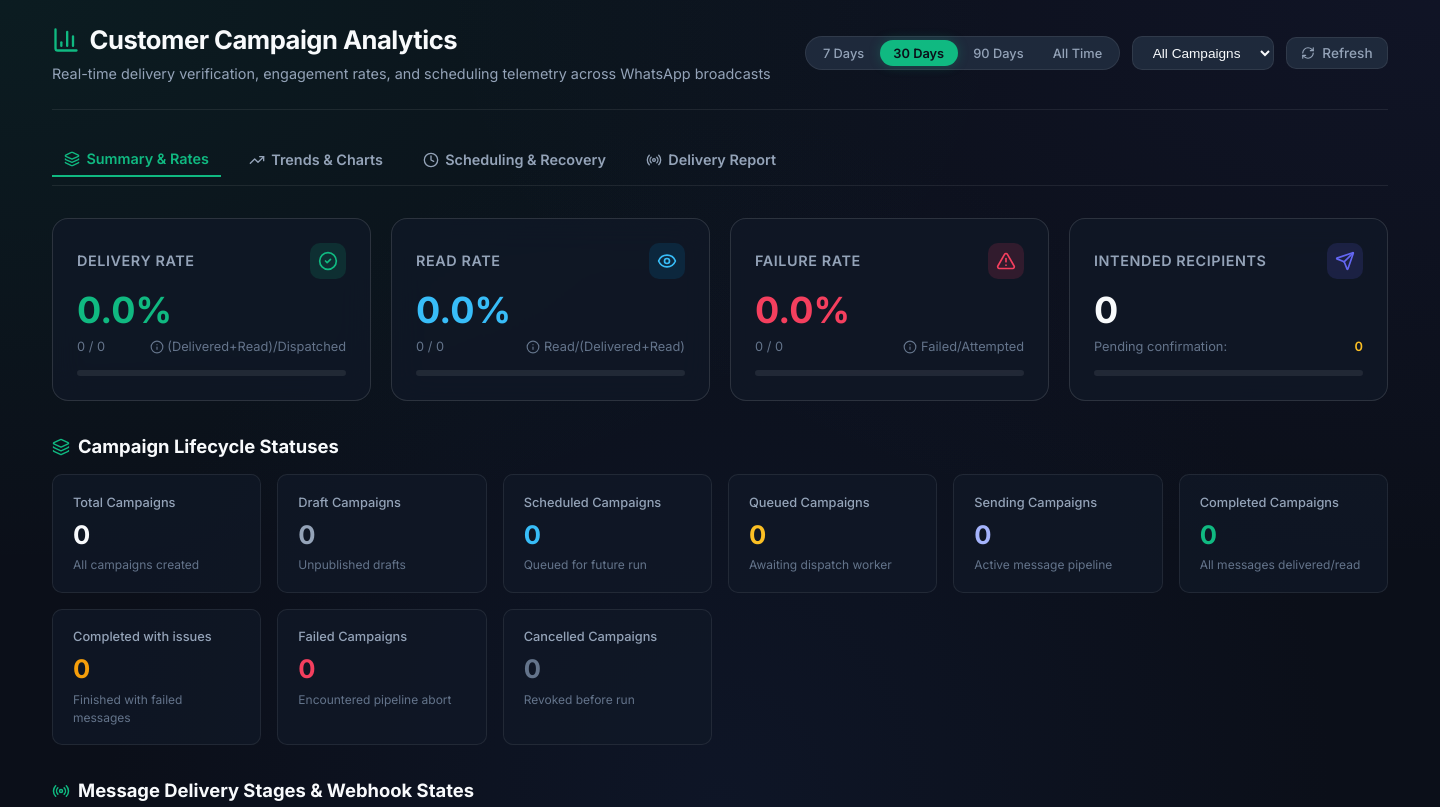
Scenario: AnalyticsPage Frontend Component › renders scheduling and honest restart-recovery telemetry tab
Note: Switch to Scheduling & Recovery tab
Click the button "Scheduling & Recovery": x=514, y=160 [411,143,618,176]
(page scrolled)
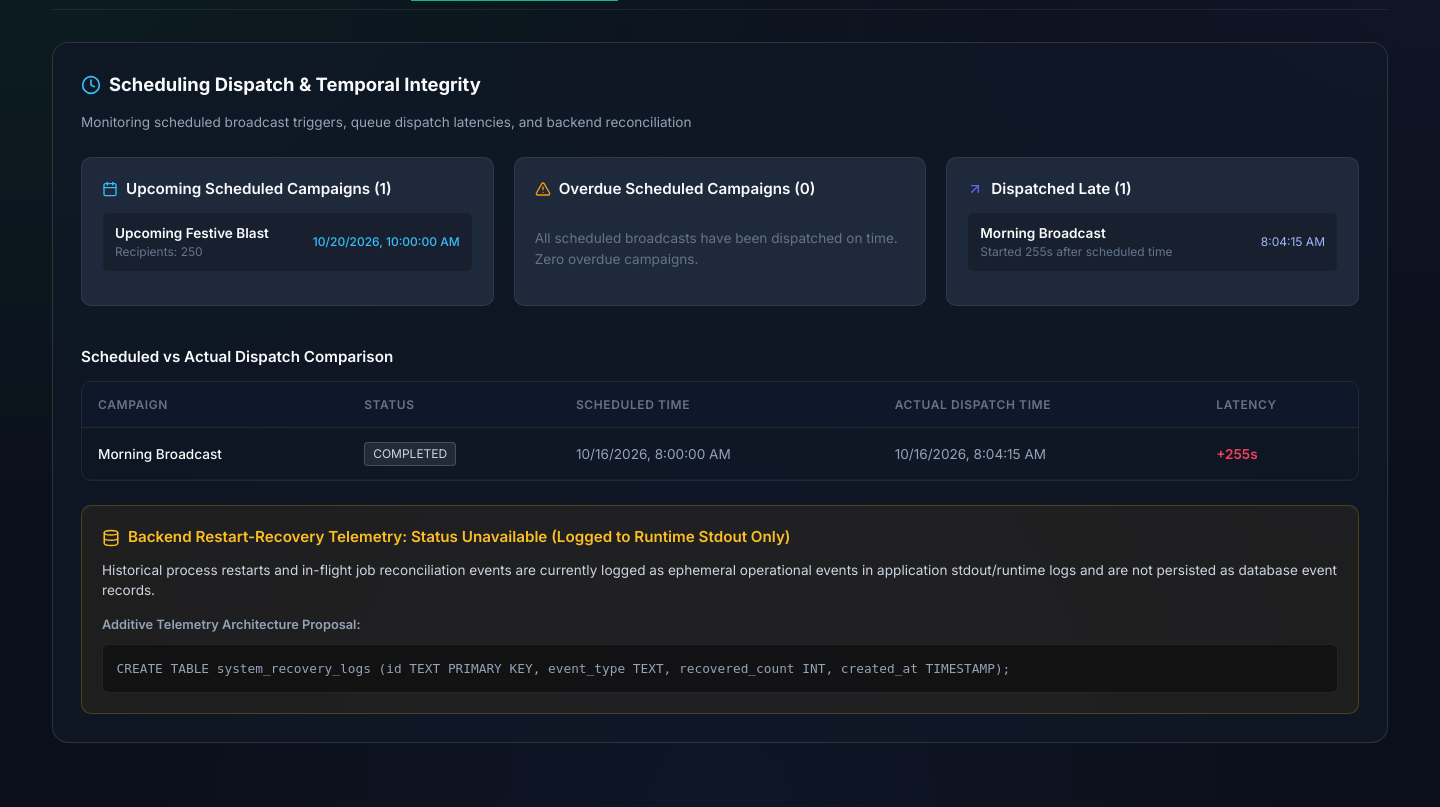
Check: the element with test id "scheduling-panel" is shown
Check: the text "Upcoming Festive Blast" is shown, box [115,223,269,243]
Check: the element with test id "recovery-telemetry-box" shows "Backend Restart-Recovery Telemetry: Status Unavailable", box [128,527,790,546]
